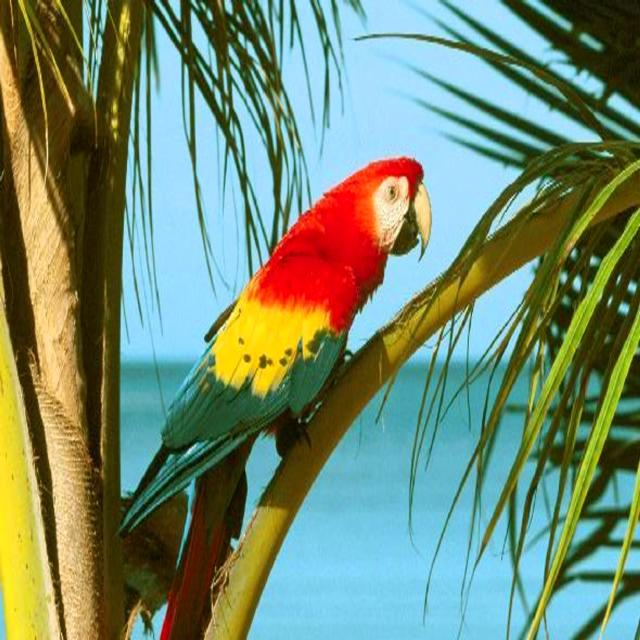parrot: (121, 157, 432, 639)
